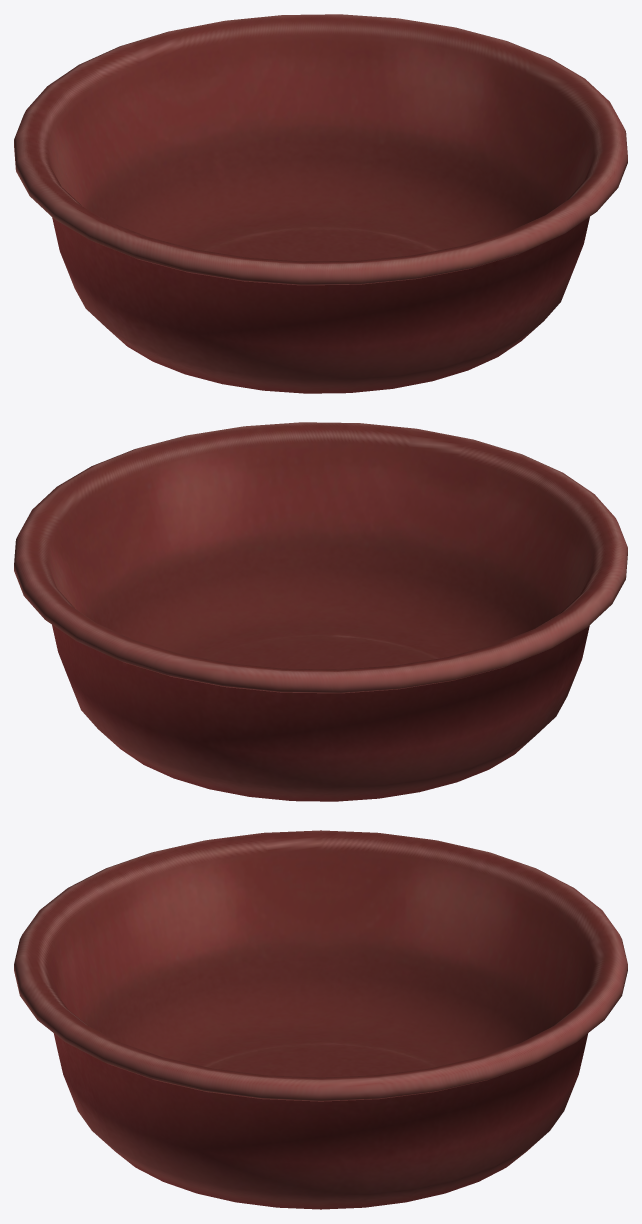
File: stage4_basin.fbx
3 renders of one model, top to bottom at view 1: azimuth 30°, elevation 25°; view 2: azimuth 150°, elevation 25°; view 3: azimuth 270°, elevation 25°, orthographic.
Visible parts, largest first — view 1: stage4_basin_low; view 2: stage4_basin_low; view 3: stage4_basin_low.
Boxes of the visible parts, box(x1,y1,x2,y2) form: stage4_basin_low: box(14, 14, 627, 393); stage4_basin_low: box(14, 422, 627, 801); stage4_basin_low: box(14, 830, 627, 1209).
Bounding box in the file's own units: 98.03 × 30.5 × 98.03.
